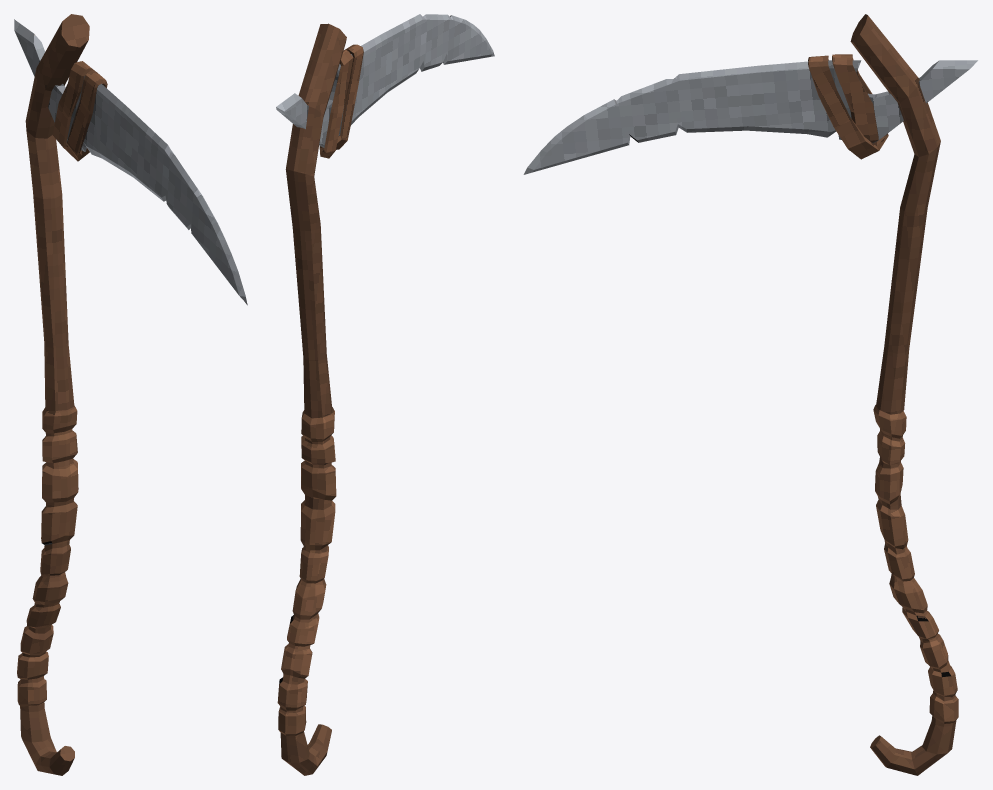
File: scythe.glb
3 views of the same model, side by side, from view 1: azimuth 30°, elevation 25°; view 2: azimuth 150°, elevation 25°; view 3: azimuth 270°, elevation 25° (orthographic). The views are drawn at different scales.
Parts seen in each view (by area): view 1: Scythe; view 2: Scythe; view 3: Scythe.
Part boxes in pixels (bbox=[...]): Scythe: bbox=[14, 14, 247, 775]; Scythe: bbox=[276, 14, 494, 775]; Scythe: bbox=[523, 14, 977, 775].
Bounding box in the file's own units: 0.0869 × 1.75 × 0.9496.
Materials: 1 (1 with a texture image).
